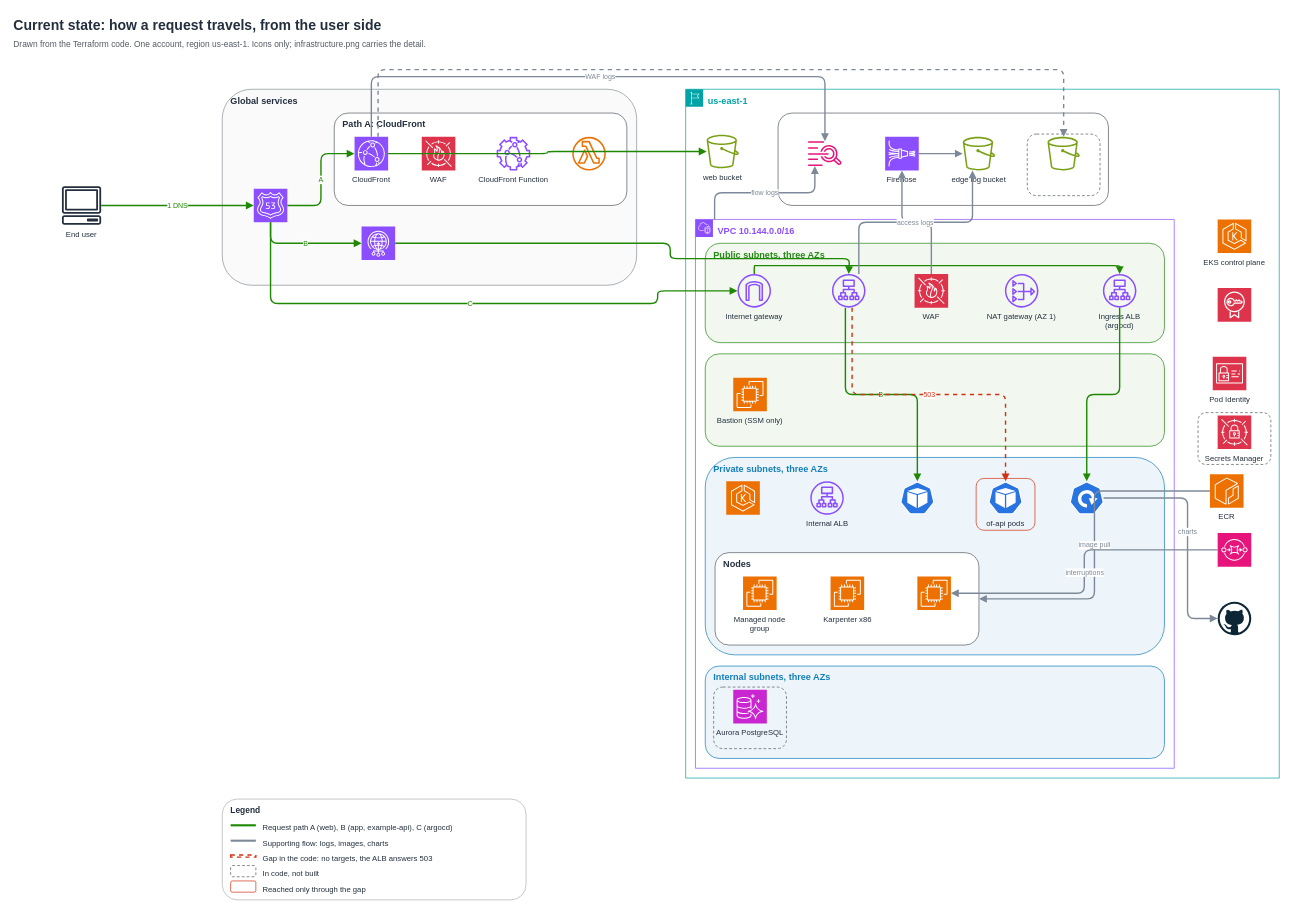
This 1292x912 diagram has some shape labels left out. The box of each missing label's shape, as (x1, y1, x2, y2) in pixels:
ACM certificates: (1217, 287, 1251, 322)
Argo CD: (1069, 481, 1104, 515)
Bastion subnets: (705, 353, 1164, 446)
CloudFront log bucket: (1046, 136, 1080, 170)
CloudWatch Logs: (808, 136, 841, 170)
EKS add-ons: (726, 481, 760, 515)
example-api pods: (900, 481, 934, 515)
GitHub (of-helm): (1217, 601, 1251, 635)
Global Accelerator: (361, 226, 395, 260)
Interruption queue: (1217, 532, 1251, 567)
Karpenter Graviton: (917, 576, 951, 610)
Lambda@Edge: (572, 136, 606, 170)
Log destinations: (777, 112, 1108, 205)
Public ALB: (832, 274, 865, 307)
Route 53 public zone: (253, 188, 287, 222)
